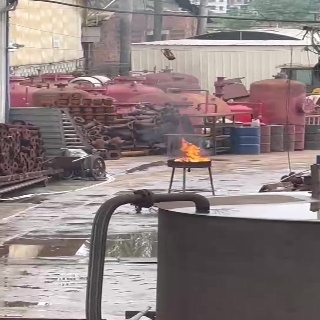fire: (174, 138, 210, 162)
